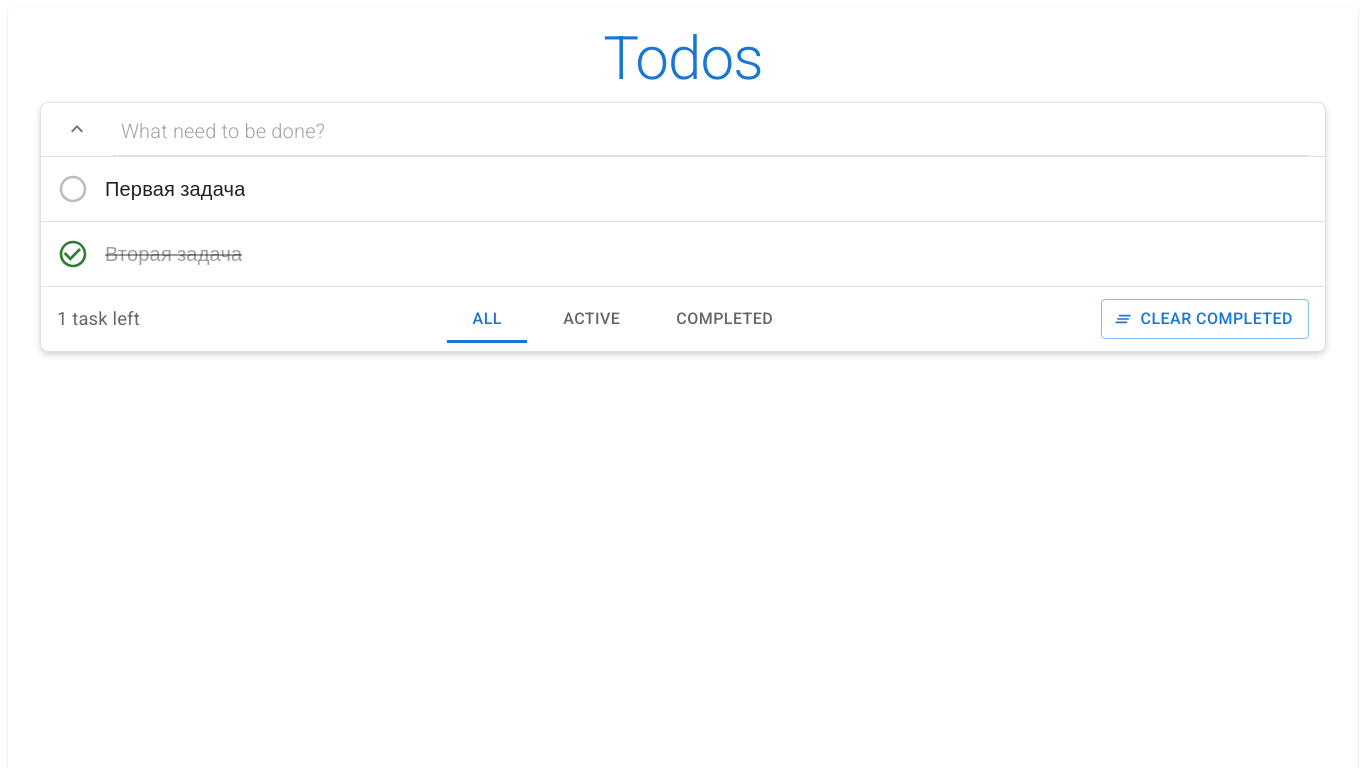
it: Фильтрация и очистка задач › Фильтрация активных задач
Expected: the text "Первая задача" is shown, [105,174,246,204]
Click the tab with test id "filter-tab-active".
click(592, 319)  # box [543,295,640,343]
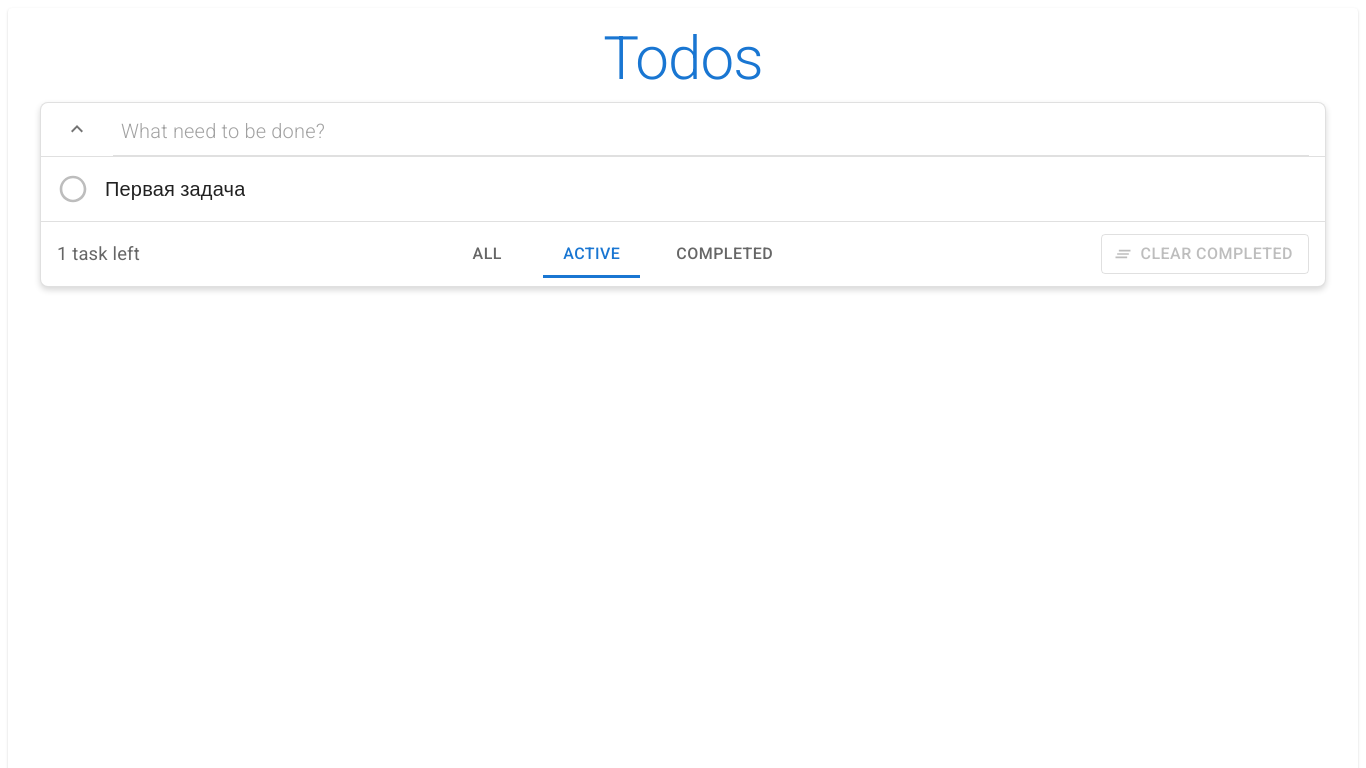
Expected: the text "Первая задача" is shown, [105,174,246,204]
Expected: the text "Вторая задача" is gone
